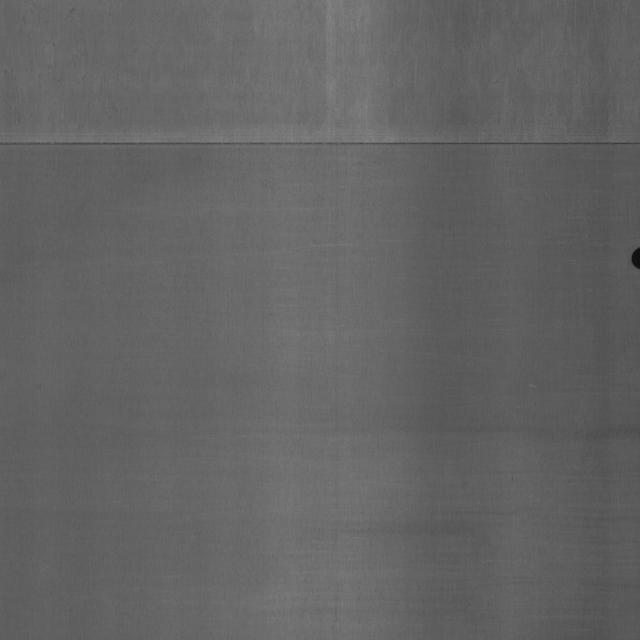crease: (1, 120, 640, 166)
crescent_gap: (629, 239, 640, 272)
